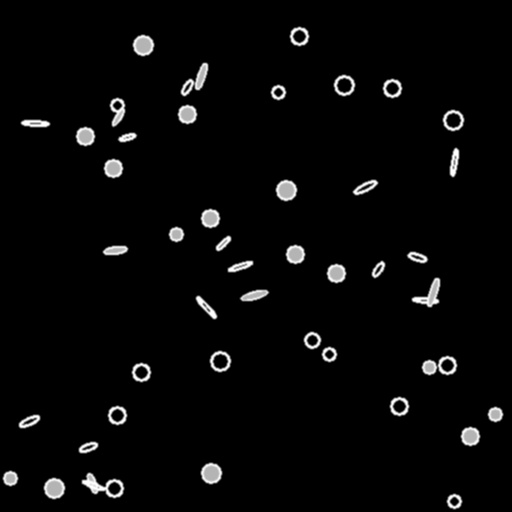pseudomonas: (194, 295, 218, 319), (194, 62, 208, 90), (426, 278, 440, 306), (353, 179, 377, 195), (241, 288, 267, 302), (227, 260, 253, 272), (85, 472, 99, 494), (18, 414, 40, 428), (214, 235, 232, 251), (370, 260, 386, 278), (449, 148, 459, 176), (82, 479, 104, 491), (111, 108, 125, 126), (180, 78, 194, 96), (78, 441, 98, 453), (104, 245, 126, 255), (408, 252, 426, 262), (118, 132, 136, 142), (22, 120, 48, 126), (413, 297, 437, 303)
synechocystis: (211, 352, 229, 370), (202, 464, 220, 482), (45, 479, 63, 497), (134, 36, 152, 54), (444, 111, 462, 129), (277, 181, 295, 199), (335, 76, 353, 94), (391, 398, 407, 414), (105, 160, 121, 176), (291, 28, 307, 44), (328, 265, 344, 281), (287, 246, 303, 262), (109, 407, 125, 423), (106, 480, 122, 496), (462, 428, 478, 444), (133, 364, 149, 380), (179, 106, 195, 122), (202, 210, 218, 226), (439, 357, 455, 373), (77, 128, 93, 144), (384, 80, 400, 96), (305, 333, 319, 347), (111, 99, 123, 111), (448, 495, 460, 507), (170, 228, 182, 240), (4, 472, 16, 484), (423, 361, 435, 373), (272, 86, 284, 98), (489, 408, 501, 420), (323, 348, 335, 360)
